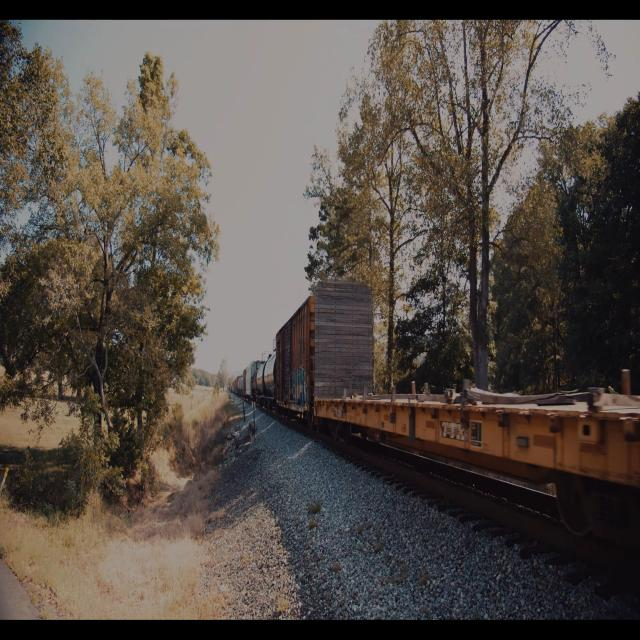boxcar: (276, 288, 314, 427)
flatcar_bulkhead: (309, 270, 640, 577)
tank: (263, 347, 279, 410)
